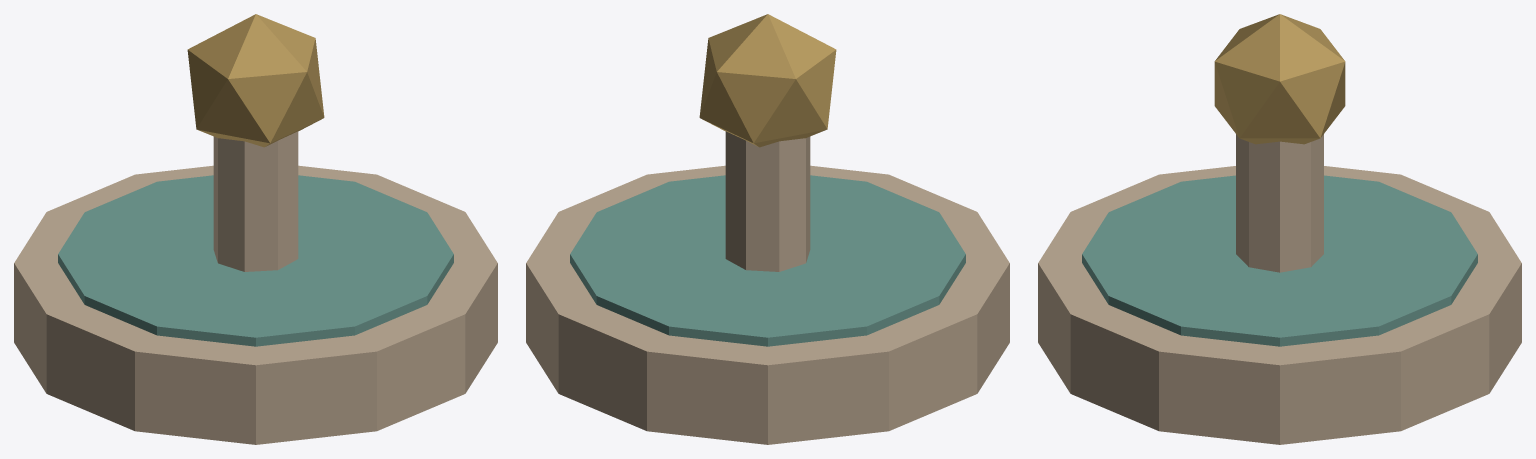
File: fountain.glb
3 views of the same model, side by side, from view 1: azimuth 30°, elevation 25°; view 2: azimuth 150°, elevation 25°; view 3: azimuth 270°, elevation 25° (orthographic).
Visible parts, largest first — view 1: fountain; view 2: fountain; view 3: fountain.
Part boxes in pixels (bbox=[...]): fountain: bbox=[14, 14, 497, 444]; fountain: bbox=[526, 14, 1009, 444]; fountain: bbox=[1038, 14, 1521, 444].
Size of the model in its own units: 2.2 by 1.65 by 2.2.
